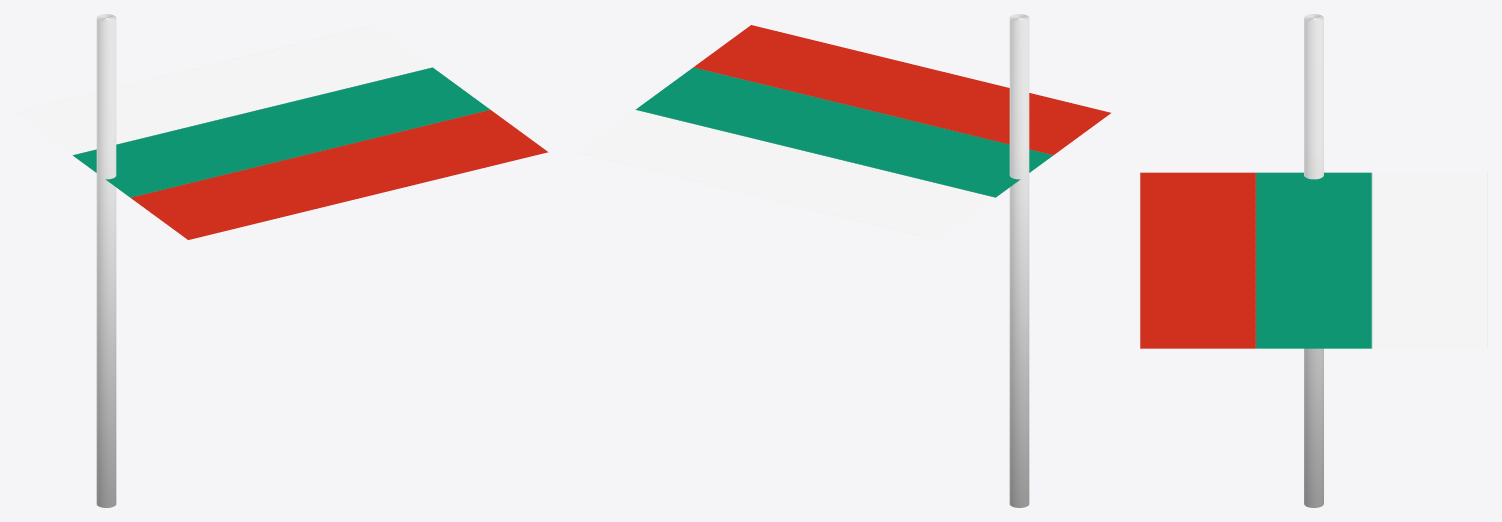
Rendered from Flag_Bulgaria.glb.
3 renders of one model, left to right at view 1: azimuth 30°, elevation 25°; view 2: azimuth 150°, elevation 25°; view 3: azimuth 270°, elevation 25°, orthographic.
Parts seen in each view (by area): view 1: Base_Flag, Base_Pole; view 2: Base_Flag, Base_Pole; view 3: Base_Flag, Base_Pole.
Part boxes in pixels (<box>): Base_Flag: <box>14,25,548,239</box>; Base_Pole: <box>96,14,116,507</box>; Base_Flag: <box>577,25,1111,239</box>; Base_Pole: <box>1009,14,1029,507</box>; Base_Flag: <box>1140,172,1487,348</box>; Base_Pole: <box>1304,14,1323,507</box>.
Bounding box in the file's own units: 2.5 × 3.2 × 2.07.
Materials: 2 (2 with a texture image).
